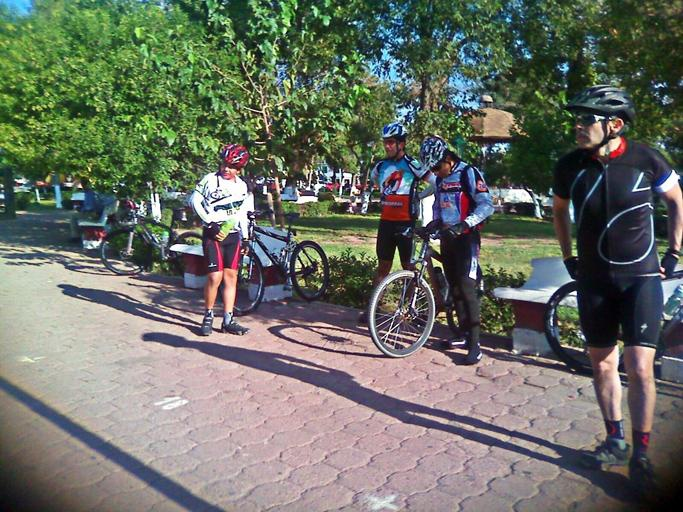non-vehicle: (543, 251, 682, 375), (365, 225, 484, 359), (217, 208, 328, 315), (98, 198, 202, 278)
